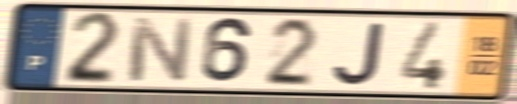2: (63, 9, 122, 88), (262, 16, 321, 90)
4: (397, 19, 447, 92)
6: (199, 15, 253, 88)
J: (330, 20, 389, 88)
N: (125, 14, 195, 84)
